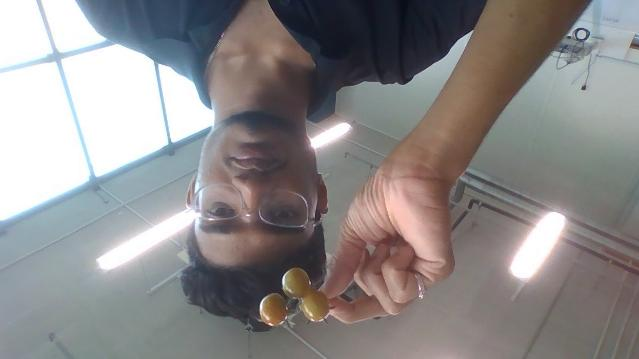Fully Grown: (298, 289, 330, 323), (281, 266, 311, 300), (258, 293, 288, 327)
